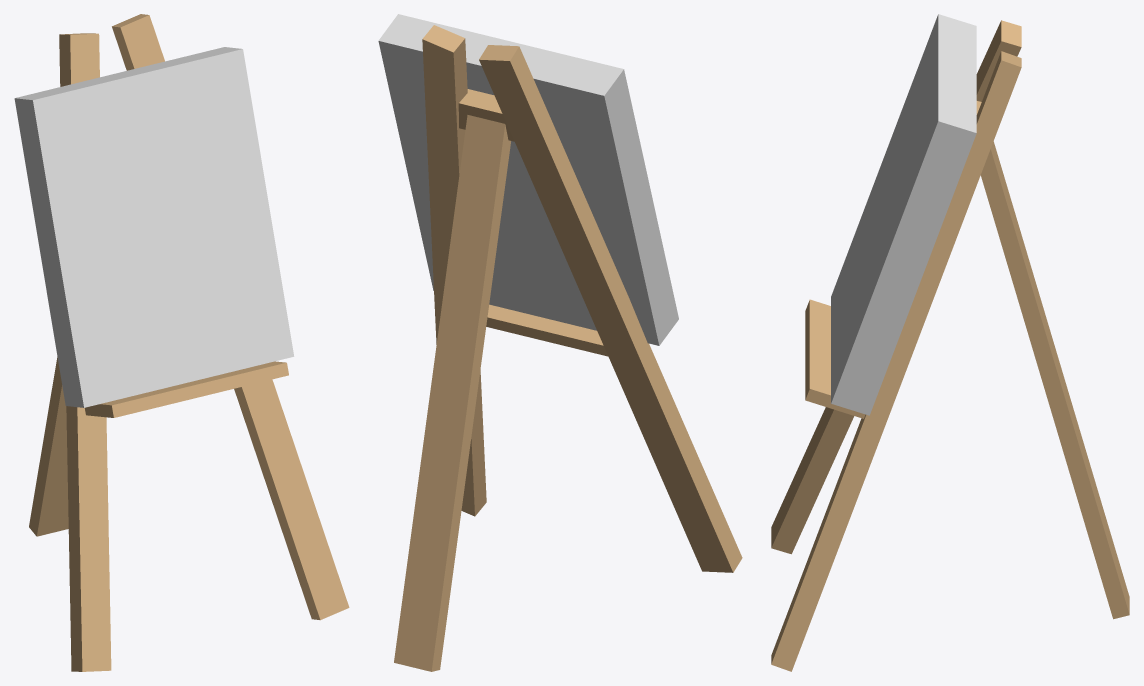
The model's file is Canvas with Easel.fbx.
3 views of the same model, side by side, from view 1: azimuth 30°, elevation 25°; view 2: azimuth 150°, elevation 25°; view 3: azimuth 270°, elevation 25° (orthographic). The views are drawn at different scales.
Visible parts, largest first — view 1: Cube; view 2: Cube; view 3: Cube.
Part boxes in pixels (x1=…): Cube: x1=14, y1=14, x2=349, y2=671; Cube: x1=378, y1=14, x2=742, y2=671; Cube: x1=771, y1=14, x2=1129, y2=671.
Bounding box in the file's own units: 297 × 575 × 327.
